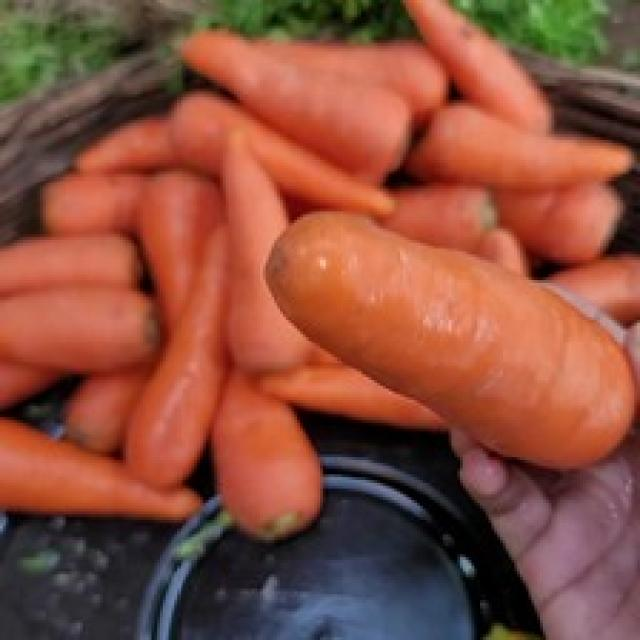Fresh_Carrot: (259, 193, 635, 454), (174, 22, 408, 172), (4, 411, 205, 543), (0, 265, 159, 375)
